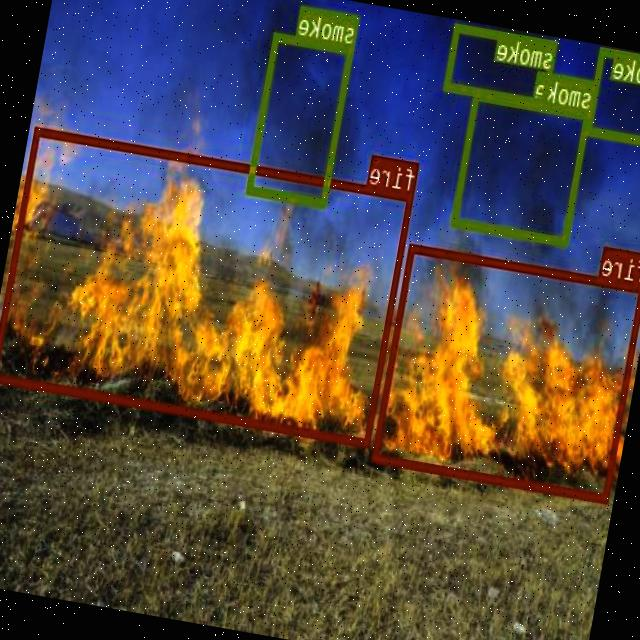fire: (0, 126, 415, 445), (372, 241, 640, 501)
smoke: (452, 90, 592, 244), (246, 30, 354, 206), (444, 22, 558, 107), (586, 45, 640, 145)
